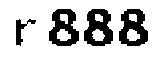8: (83, 4, 115, 51), (47, 5, 80, 50), (119, 6, 149, 50)
r: (11, 17, 41, 53)
